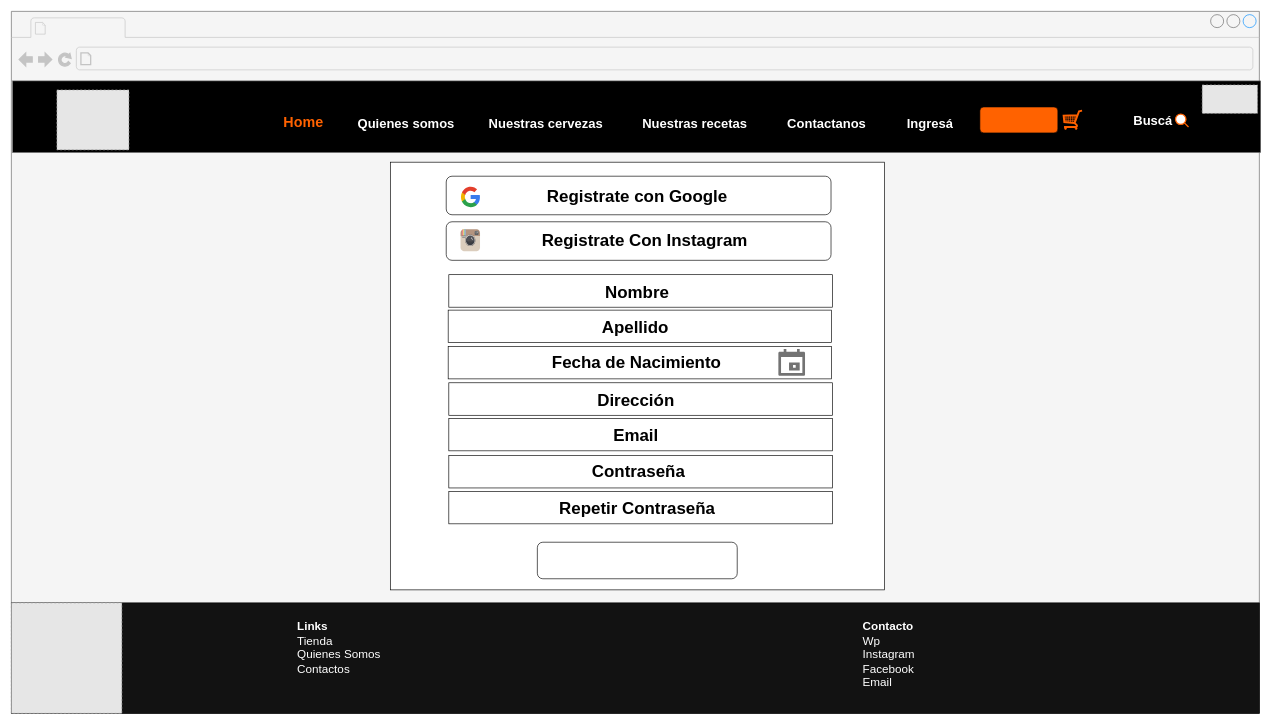
This 1272x725 diagram has some shape labels left out. Grey dashed boxes stand in for pictures. Each missing label, with the centre of its shape:
https://www.draw.io: (176,58)
Page 1: (86,27)
Registrar: (637,560)
Tienda: (1018,119)
